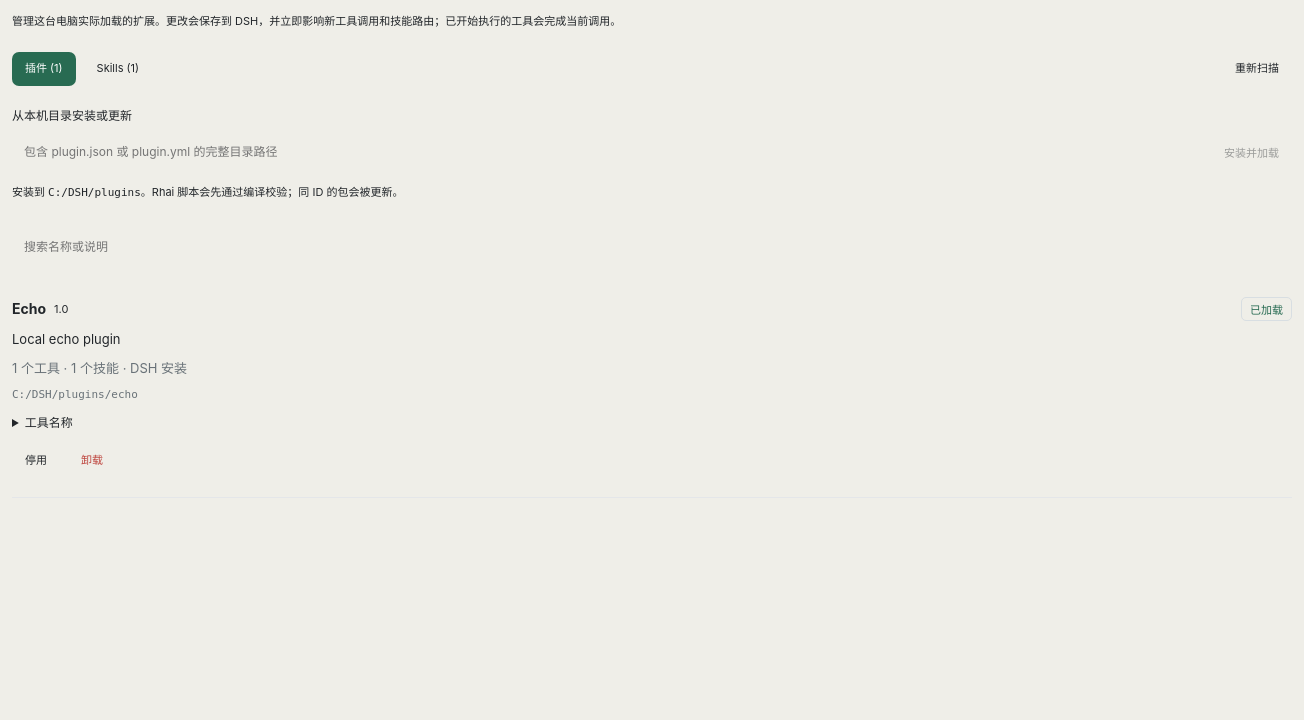
Test case: DSH extension management › sends the selected local install path and reads actual skill instructions
In the field labelled "从本机目录安装或更新": (606, 151) [12,132,1199,171], type "C:/Packages/echo"
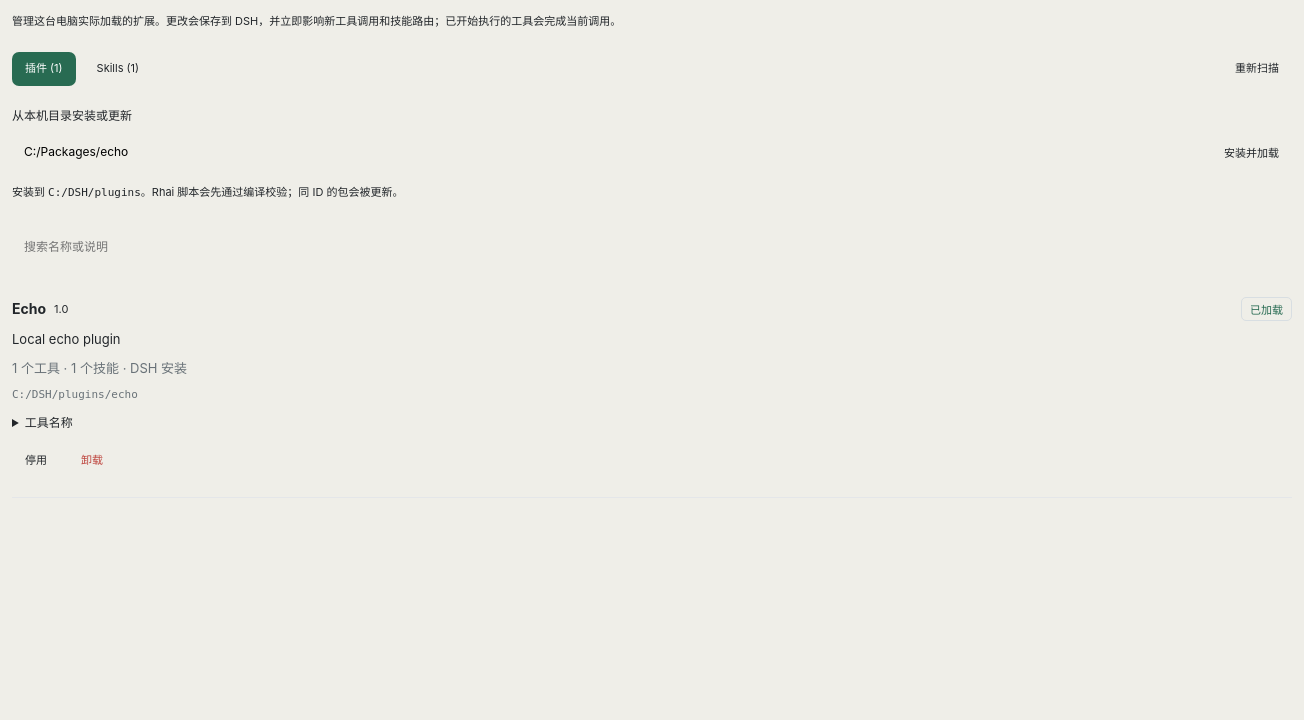
Click the button "安装并加载": click(1252, 154) [1211,137,1292,171]
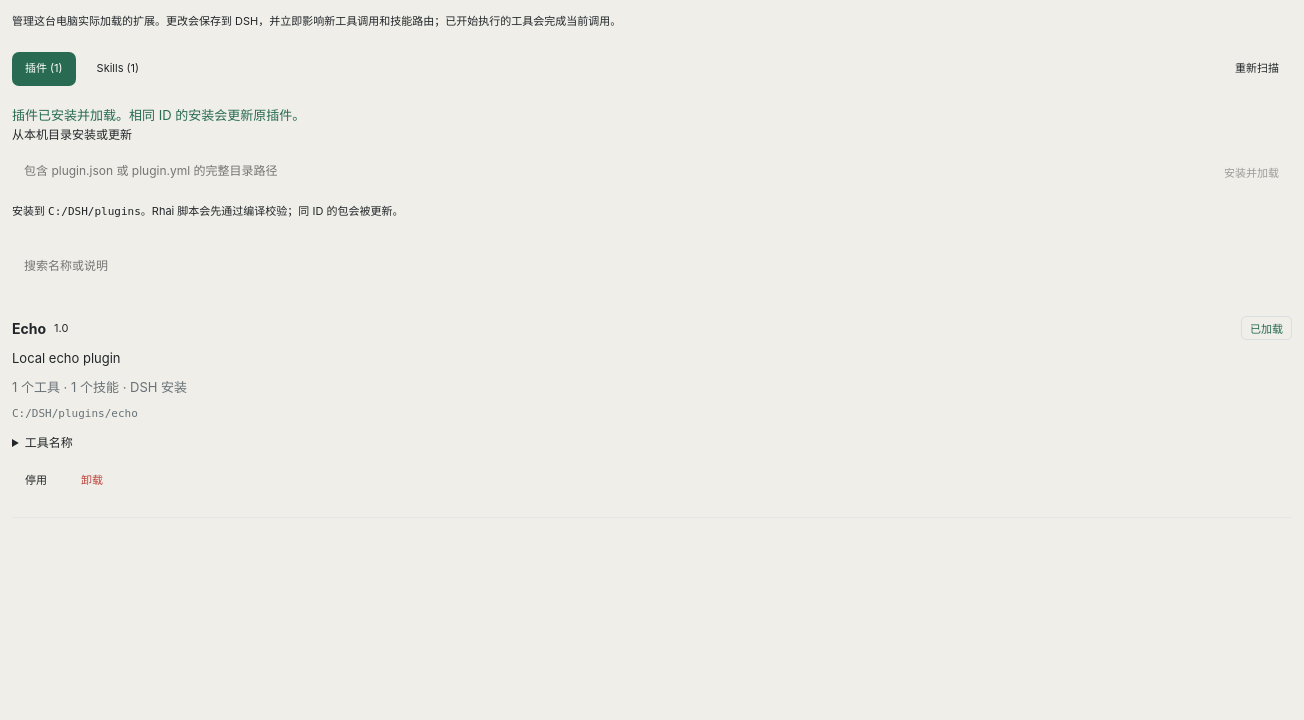
Check: the text "插件已安装并加载。相同 ID 的安装会更新原插件。" is shown, box [12,107,305,123]
Click the button "Skills (1)": click(118, 69) [84,52,152,86]
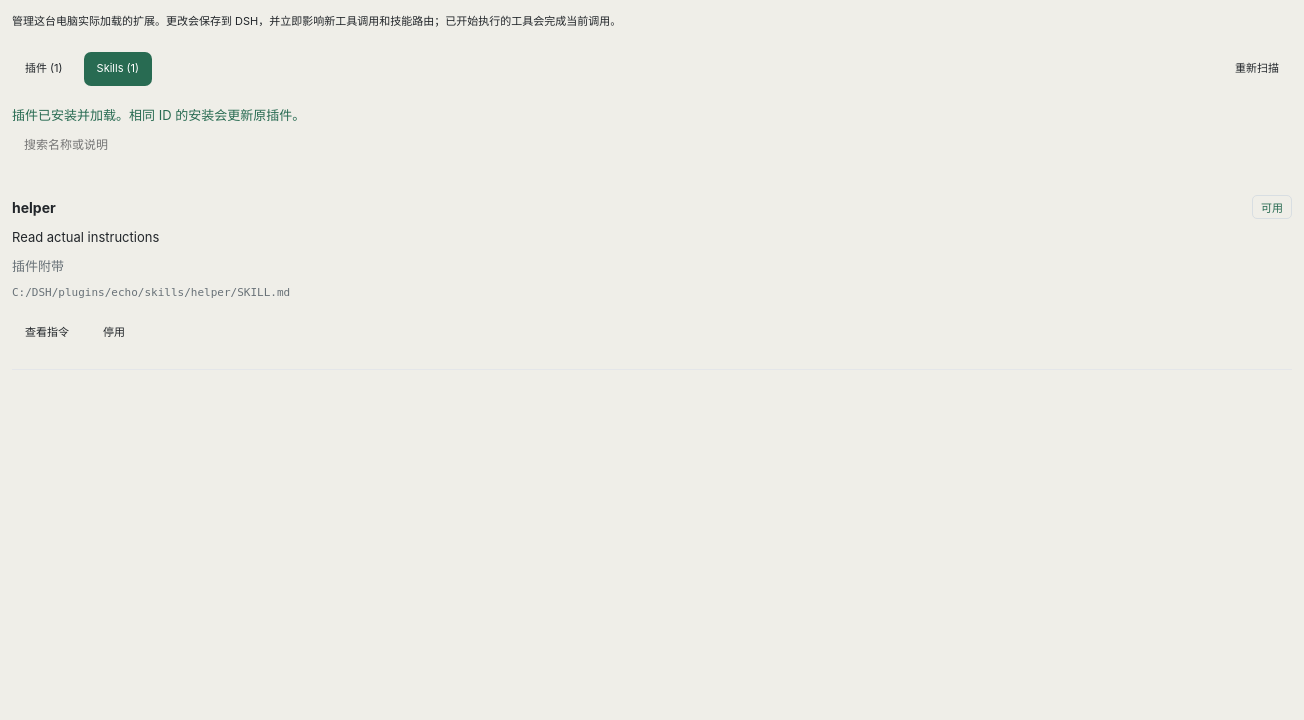
Click the button "查看指令": click(47, 333) [12,316,82,350]
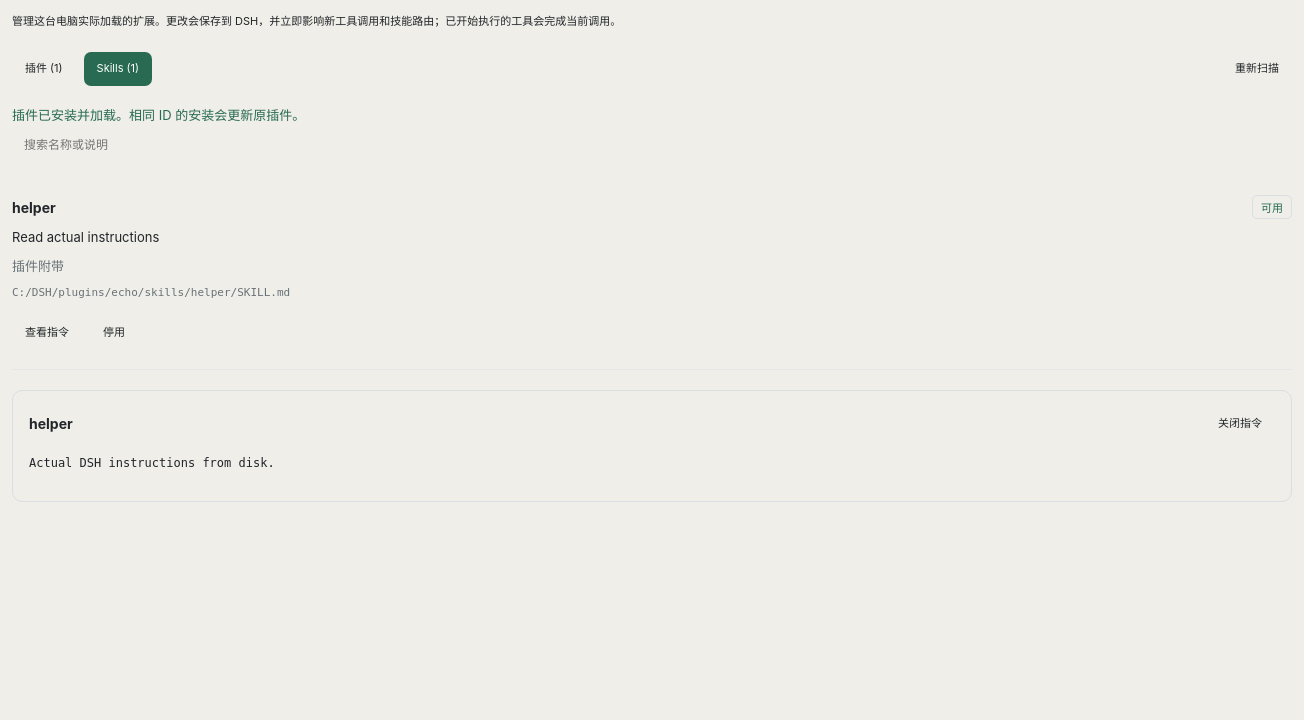
Check: the text "Actual DSH instructions from disk." is shown, box [29,456,275,470]
